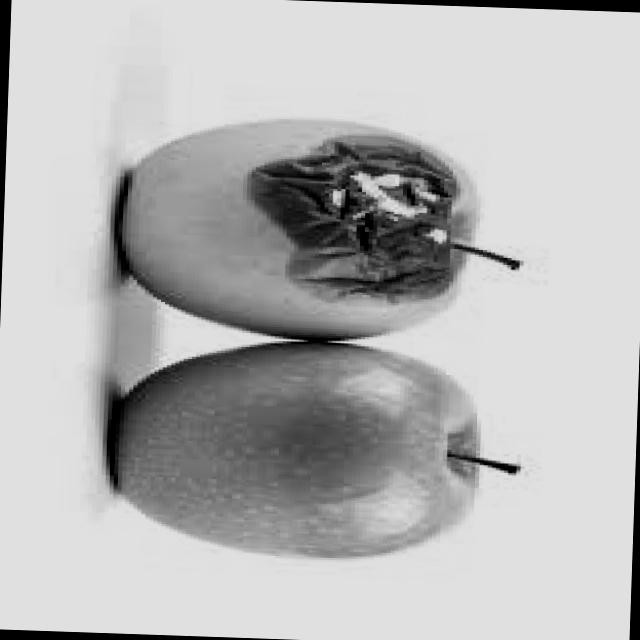Green Juicy Apple: (104, 333, 484, 564)
Rotten Apple: (111, 111, 478, 342)
